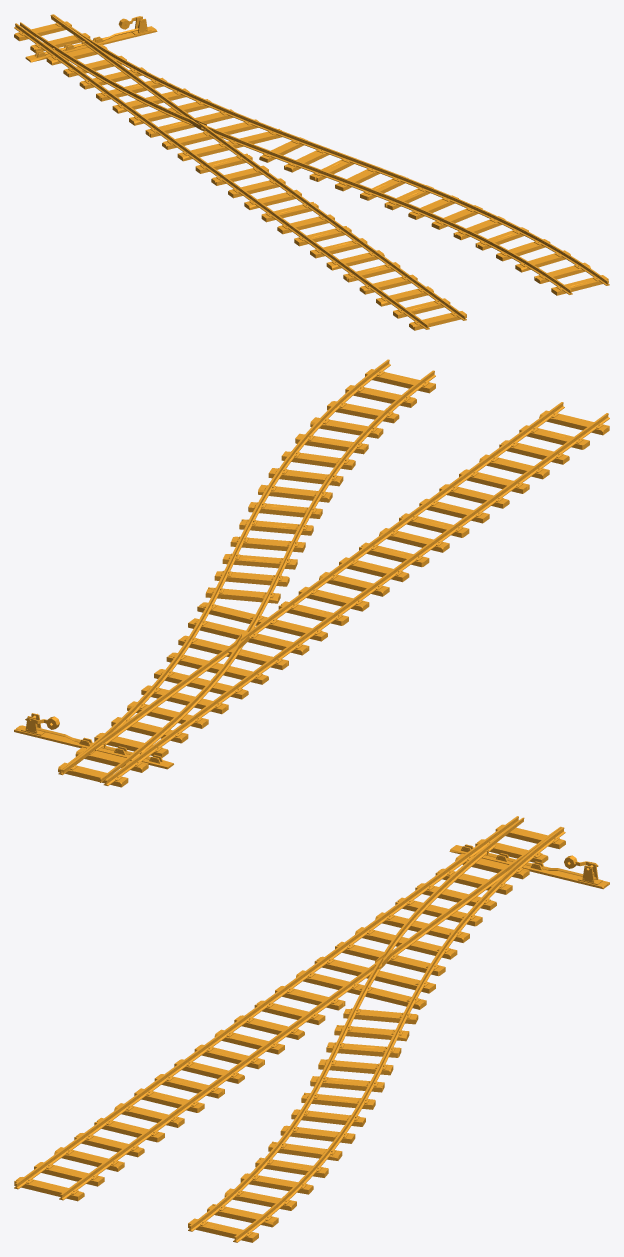
Rendered from SM_Train_Rail_Switch_Old.fbx.
The picture shows the model from 3 angles, top to bottom: view 1: azimuth 30°, elevation 25°; view 2: azimuth 150°, elevation 25°; view 3: azimuth 330°, elevation 25°; orthographic projection. The views are drawn at different scales.
Visible parts, largest first — view 1: SM_Train_Rail_Switch_Old; view 2: SM_Train_Rail_Switch_Old; view 3: SM_Train_Rail_Switch_Old.
Part boxes in pixels (x1,y1,x2,y2): SM_Train_Rail_Switch_Old: (14,14,609,330); SM_Train_Rail_Switch_Old: (14,359,609,787); SM_Train_Rail_Switch_Old: (14,816,609,1242).
Size of the model in its own units: 8.73 by 0.6969 by 30.
